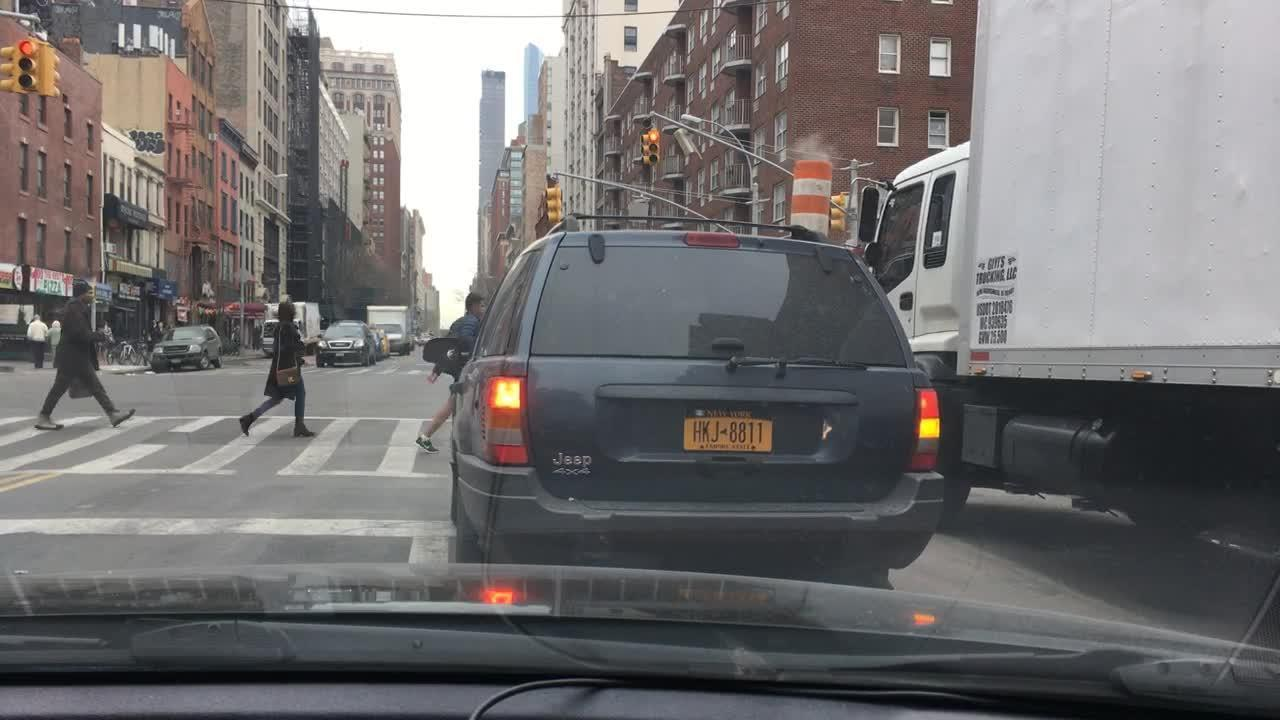jeep: (552, 449, 594, 472)
